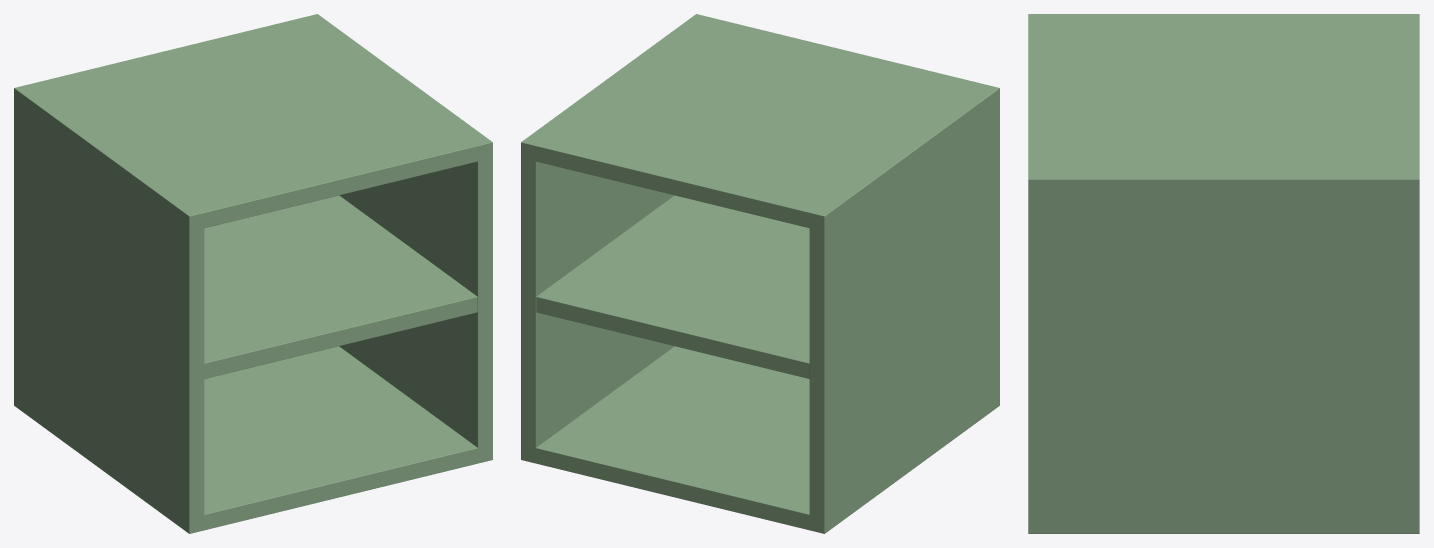
Rendered from MOD-1X1-S-O-SA.glb.
The picture shows the model from 3 angles, left to right: view 1: azimuth 30°, elevation 25°; view 2: azimuth 150°, elevation 25°; view 3: azimuth 270°, elevation 25°; orthographic projection. The views are drawn at different scales.
Size of the model in its own units: 360 by 360 by 360.
